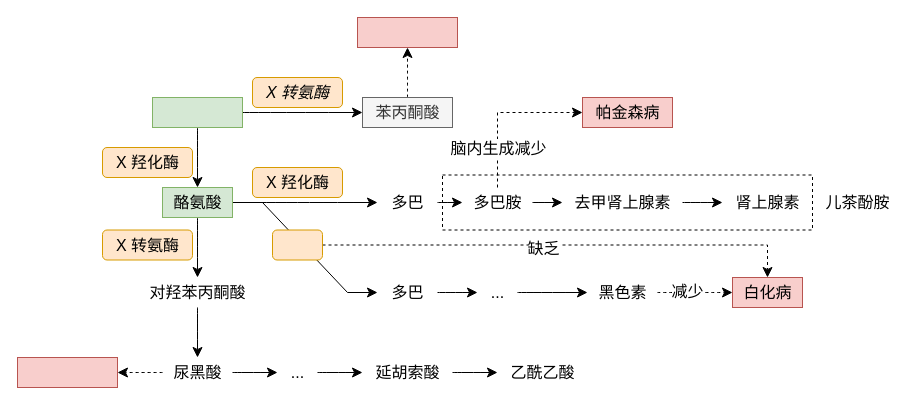
Some shapes in this 920 by 405 pixel diagram are drawn without their labels. The centre of each missing label's shape, as x and y in pixels:
X 酶: point 297,244
尿黑酸尿症: point 67,372
苯丙氨酸: point 197,112
苯丙酮尿症: point 407,32
